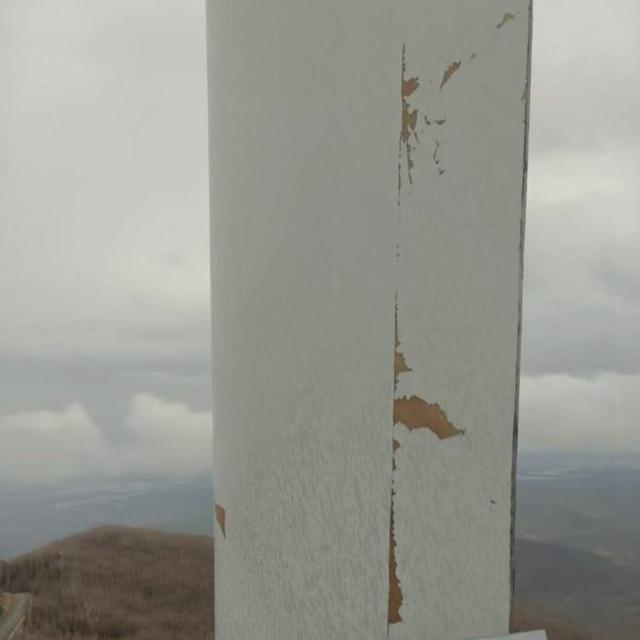surface_peeling: (394, 50, 436, 198), (387, 392, 471, 441), (385, 495, 408, 626), (389, 325, 413, 384), (438, 58, 470, 88), (211, 504, 234, 540)
